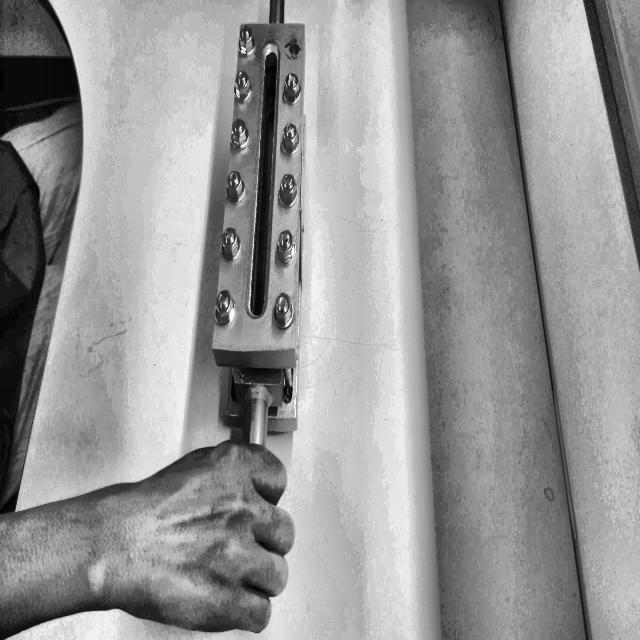ShuiWeiQi_11: (209, 0, 308, 455)
